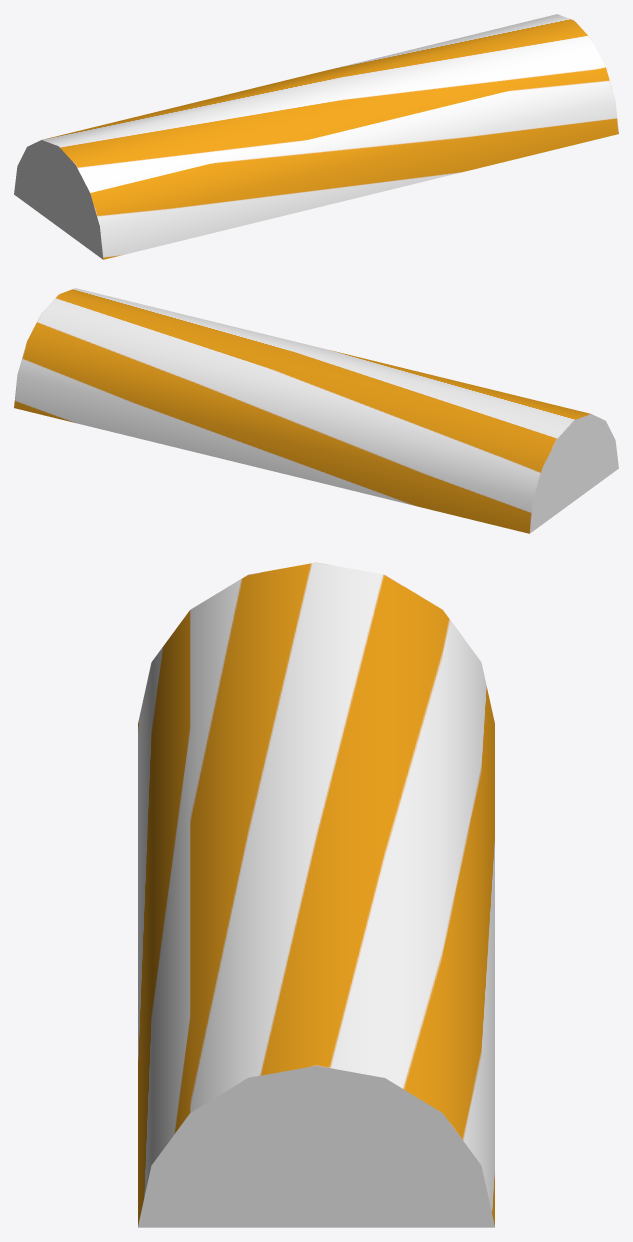
Rendered from 방지턱.fbx.
3 views of the same model, one above another, from view 1: azimuth 30°, elevation 25°; view 2: azimuth 150°, elevation 25°; view 3: azimuth 270°, elevation 25° (orthographic). The views are drawn at different scales.
Parts seen in each view (by area): view 1: Cylinder001; view 2: Cylinder001; view 3: Cylinder001.
Part boxes in pixels (<box>): Cylinder001: <box>14,14,618,259</box>; Cylinder001: <box>14,288,618,533</box>; Cylinder001: <box>138,562,494,1227</box>.
Size of the model in its own units: 100 by 15 by 30.
